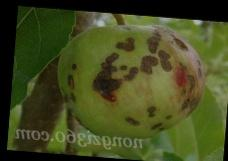rotten apple: (52, 17, 213, 138)
